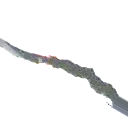crackTip: (1, 37, 128, 115)
